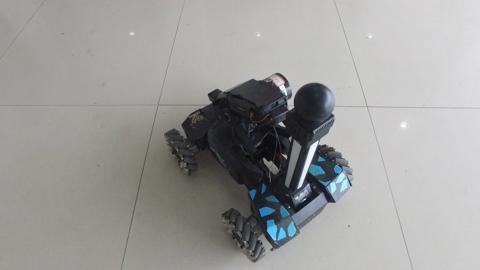chariot: (125, 43, 351, 262)
